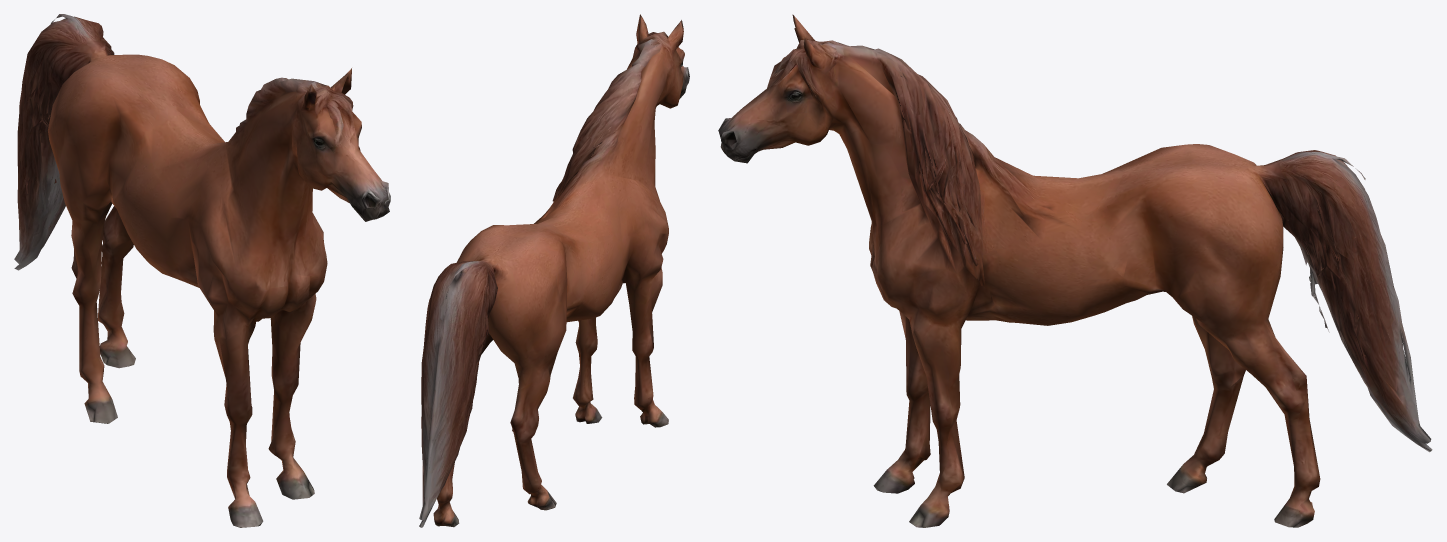
File: animal_horse_brown.glb
3 renders of one model, left to right at view 1: azimuth 30°, elevation 25°; view 2: azimuth 150°, elevation 25°; view 3: azimuth 270°, elevation 25°, orthographic. The views are drawn at different scales.
Parts seen in each view (by area): view 1: tripo_node_9d40cb8a-c467-4695-8df4-1d39caf472ee; view 2: tripo_node_9d40cb8a-c467-4695-8df4-1d39caf472ee; view 3: tripo_node_9d40cb8a-c467-4695-8df4-1d39caf472ee.
Part boxes in pixels (left/top/right/bottom): tripo_node_9d40cb8a-c467-4695-8df4-1d39caf472ee: left=14, top=14, right=390, bottom=527; tripo_node_9d40cb8a-c467-4695-8df4-1d39caf472ee: left=419, top=14, right=689, bottom=527; tripo_node_9d40cb8a-c467-4695-8df4-1d39caf472ee: left=718, top=14, right=1432, bottom=527.
Bounding box in the file's own units: 0.2059 × 0.7276 × 0.9782.
Materials: 1 (1 with a texture image).
